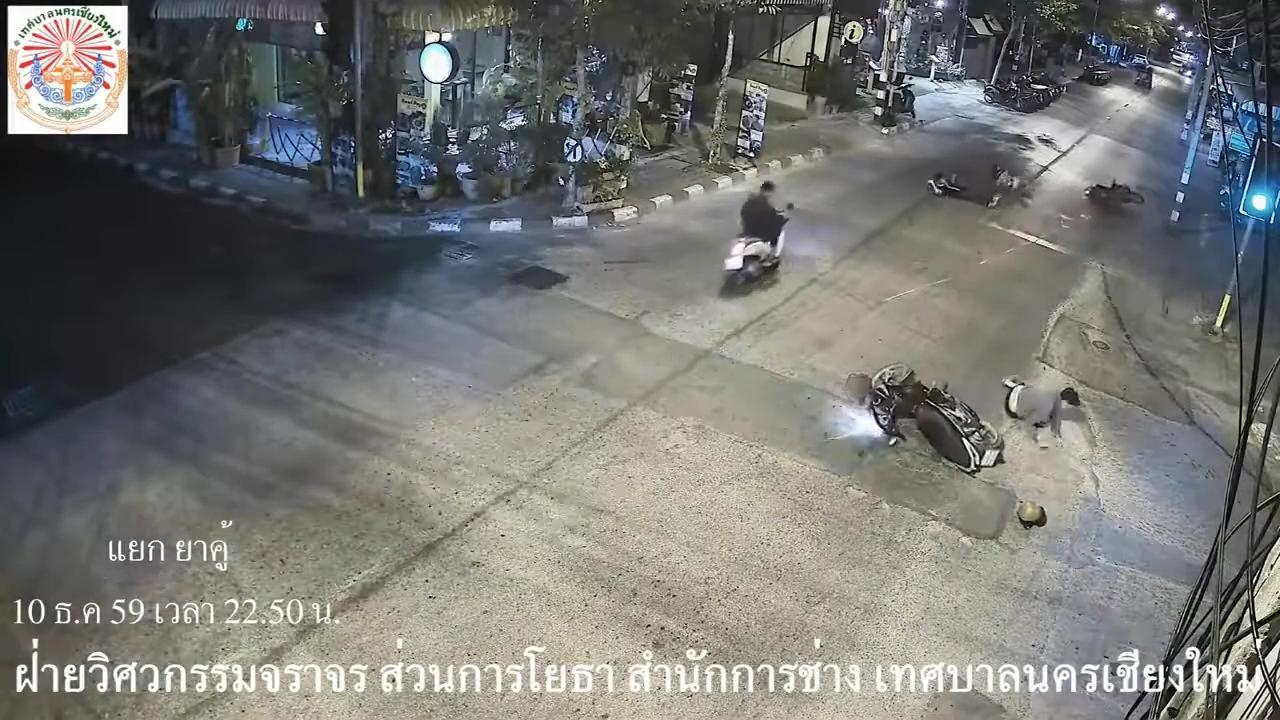accident: (1004, 368, 1080, 449), (922, 168, 1009, 214)
